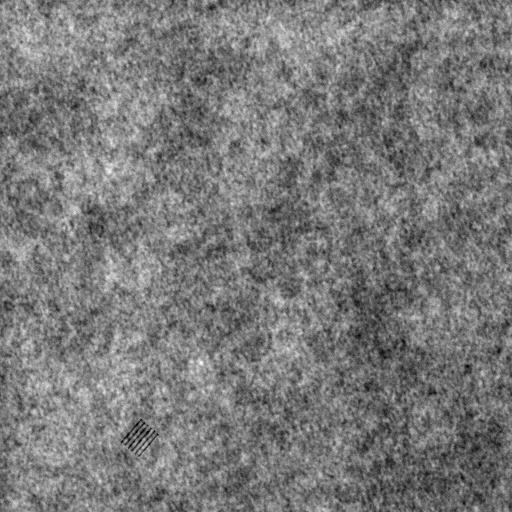DefectTypeB: (120, 418, 155, 457)
